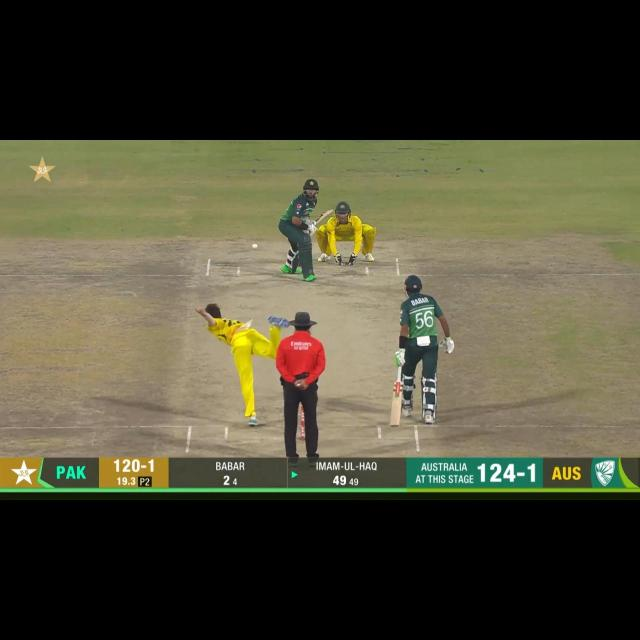bat: (306, 205, 333, 232), (390, 382, 403, 424)
toe: (385, 415, 402, 428), (321, 207, 333, 220)
